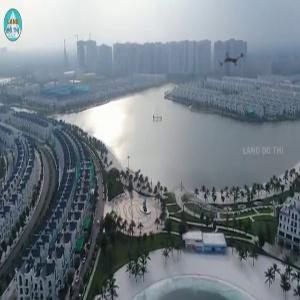drone: (208, 37, 255, 84)
